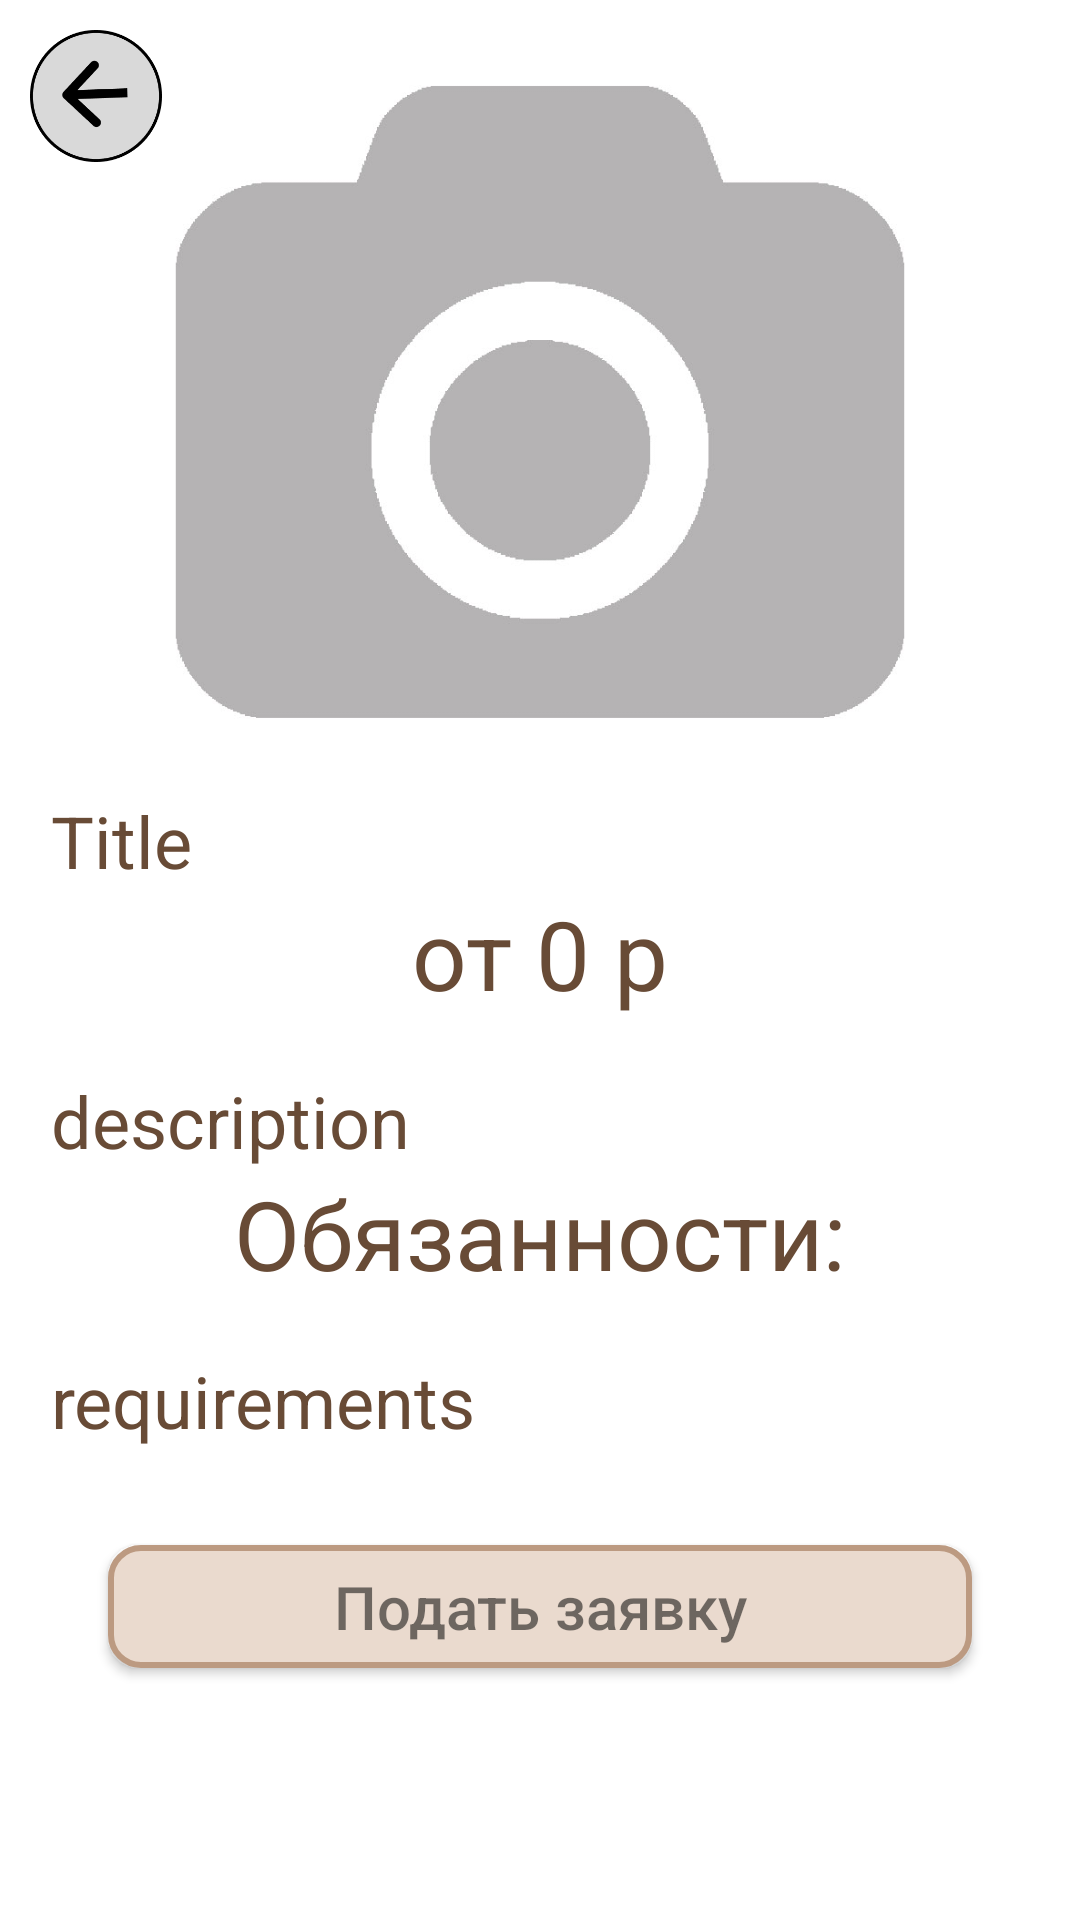

Locate icon controls on the screen. Image size 1080×1920, boxes as (x1, y1, x2, y2).
back: (30, 30, 162, 162)
